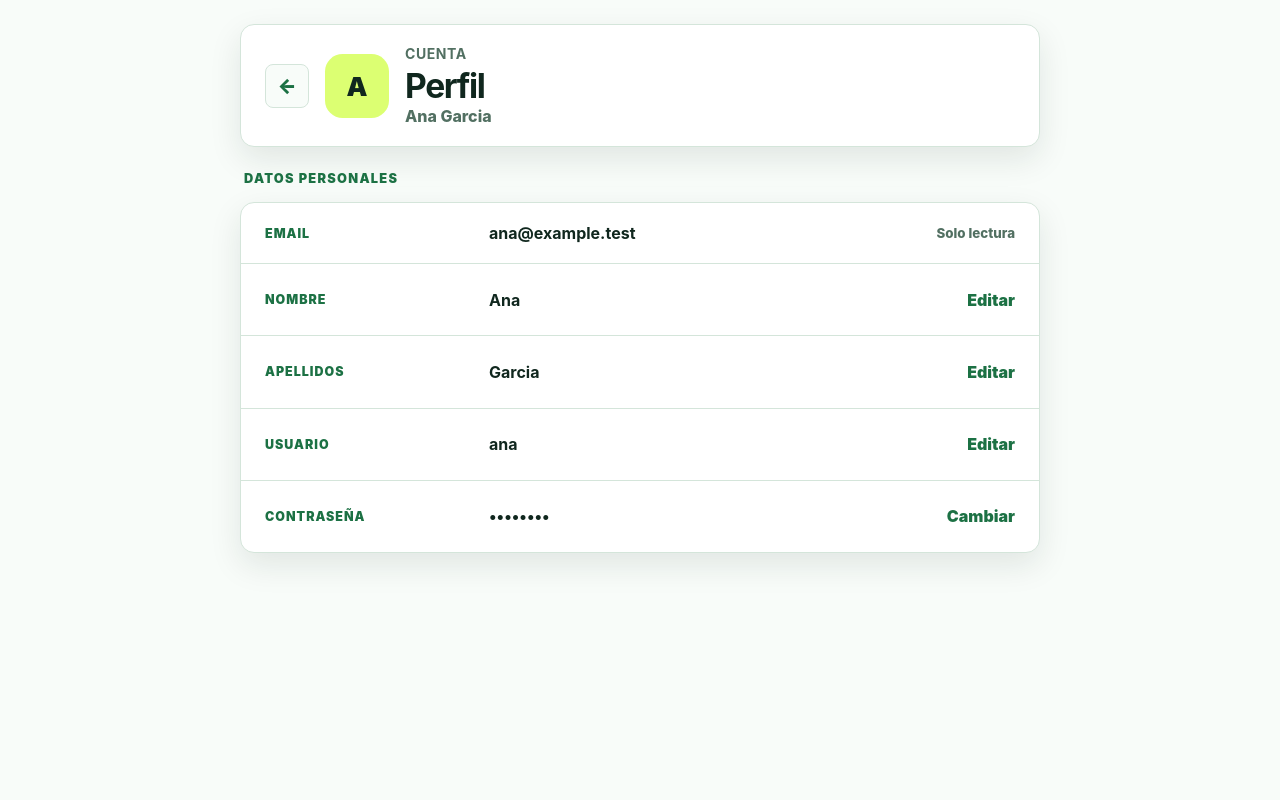
Test: ProfilePage › validates username format before submitting
Click the button "Editar" in the row of "Usuario": (991,444) [967, 428, 1015, 460]
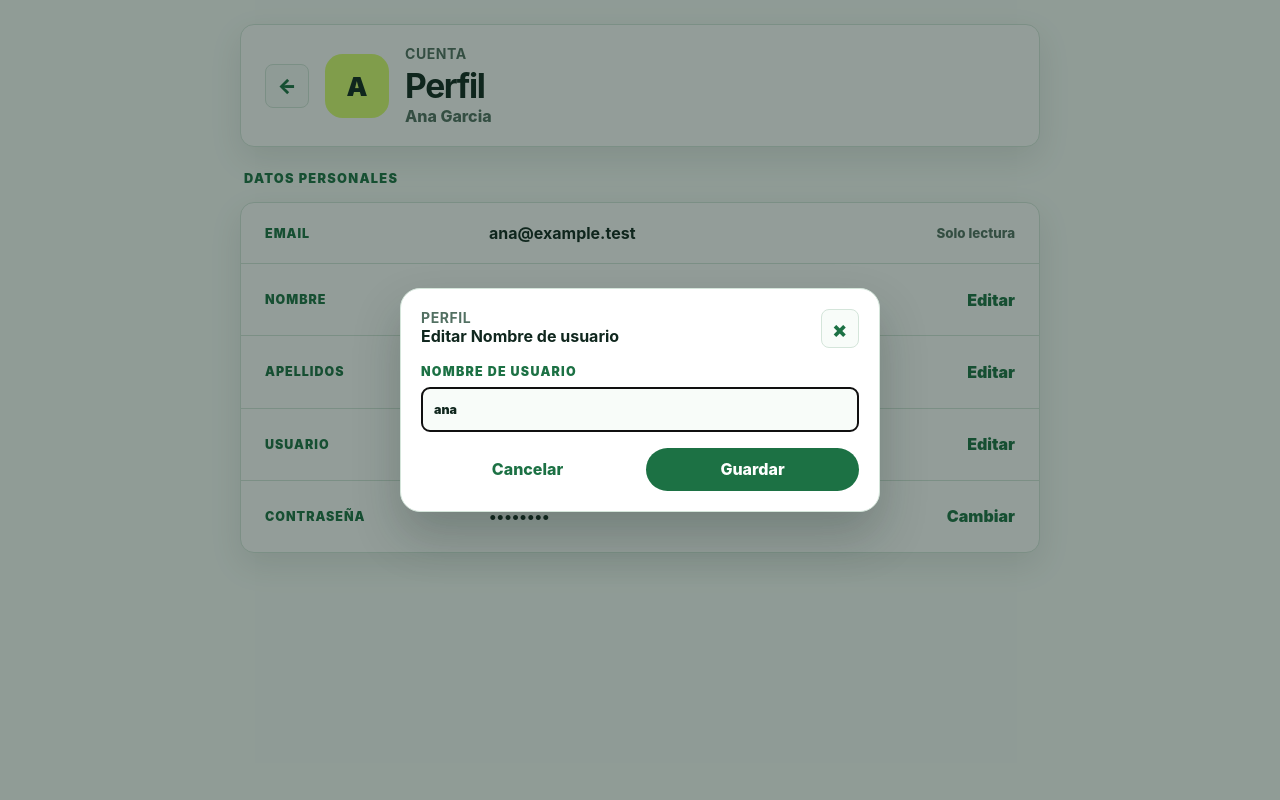
Replace the text in the field labelled "Nombre de usuario" with "no": (640,410) [421, 387, 859, 432]
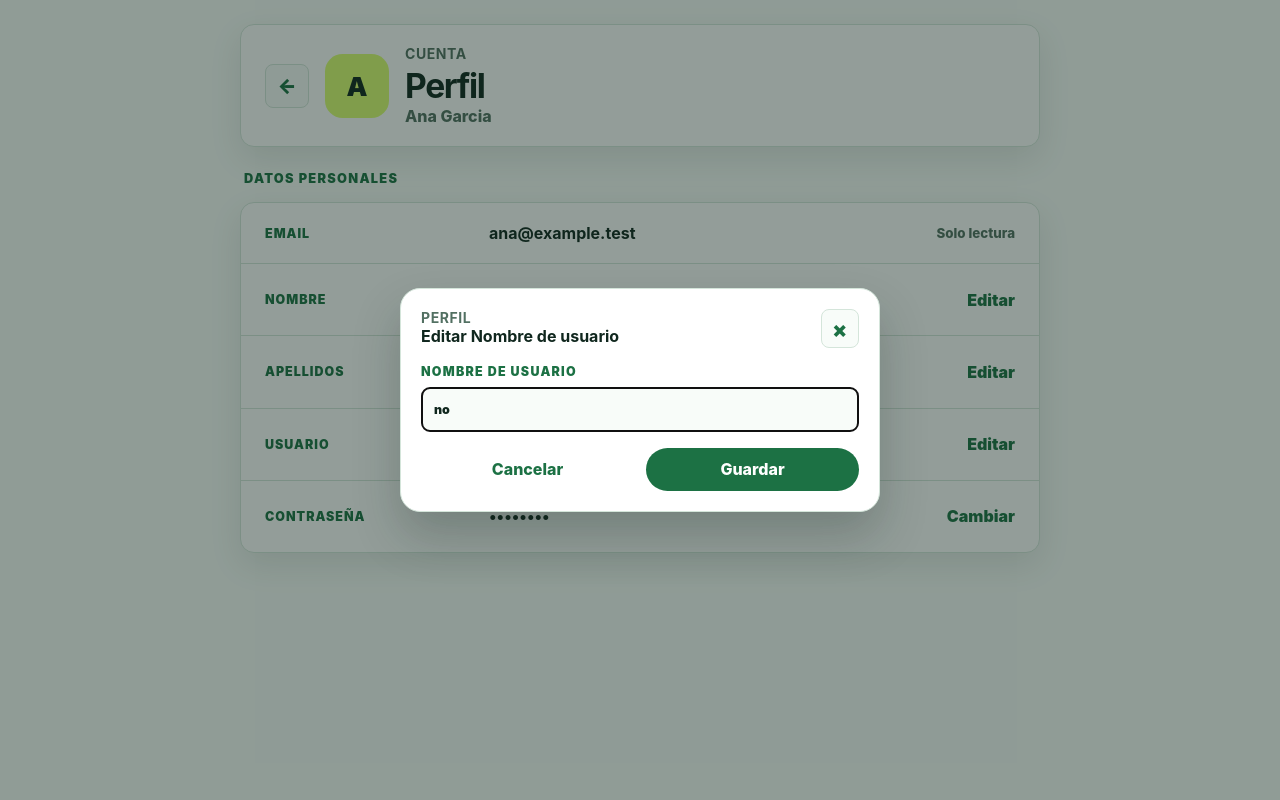
Click the button "Guardar": (752,470) [646, 448, 859, 491]
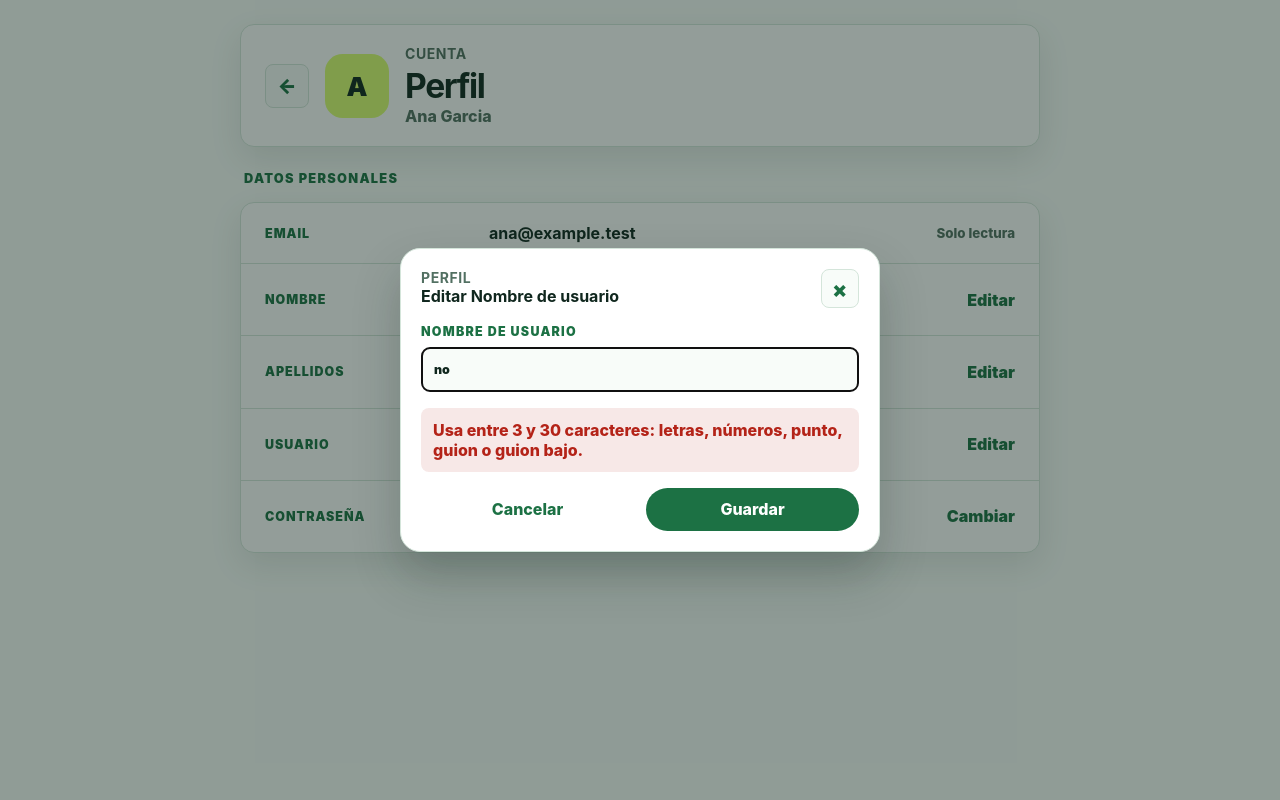
Now the message shows "Usa entre 3 y 30 caracteres", box [433, 420, 843, 460]
